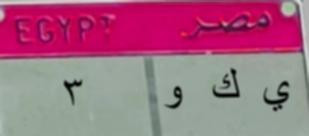3: (57, 73, 89, 114)
kaaf: (207, 66, 245, 110)
waw: (159, 79, 189, 119)
yaa: (260, 73, 294, 116)
